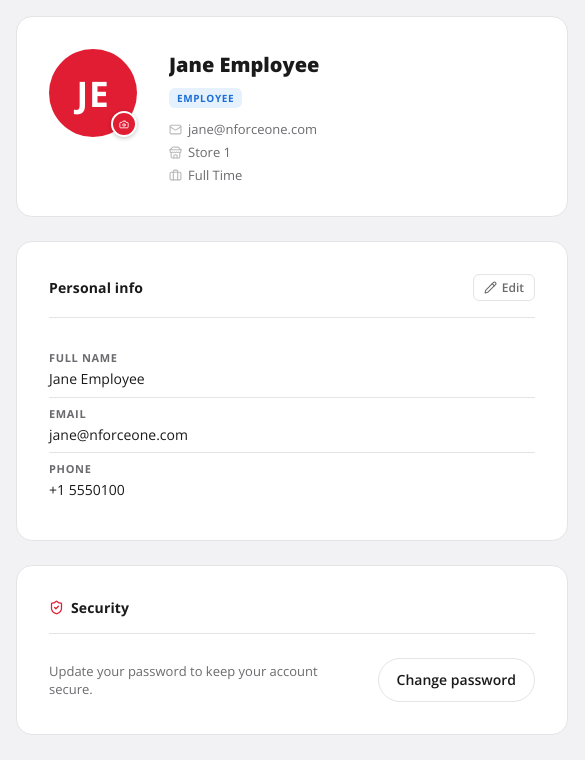
Test case: Profile personal info section › renders editable fields pre-filled with current data when edit mode is opened
This screenshot has width=585, height=760.
Expected: the heading "Jane Employee" is shown, [169,51,319,78]
Click the button with aria-label "edit personal info".
click(504, 288)  # box [473,274,535,301]
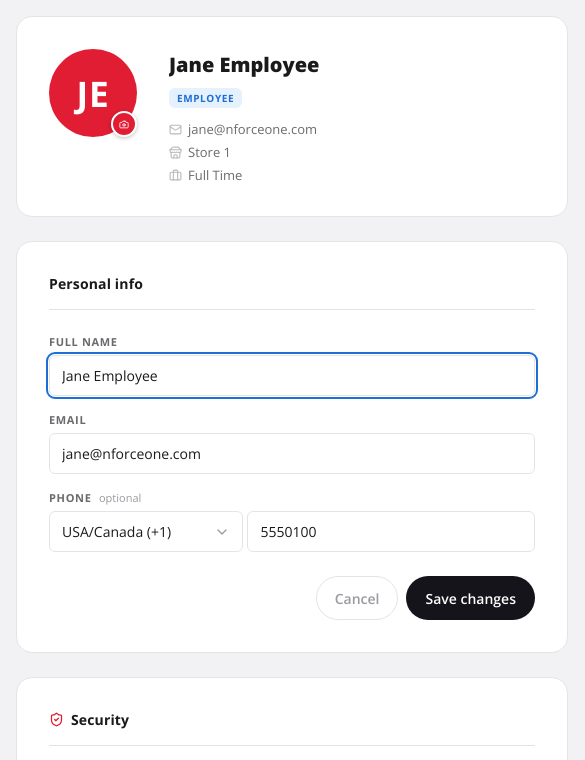
Result: the field labelled "Full name" holds "Jane Employee" at [49,355,535,396]
Result: the field labelled "Email" holds "jane@nforceone.com" at [49,433,535,474]
Result: the field labelled "Phone optional" holds "5550100" at [247,511,535,552]
